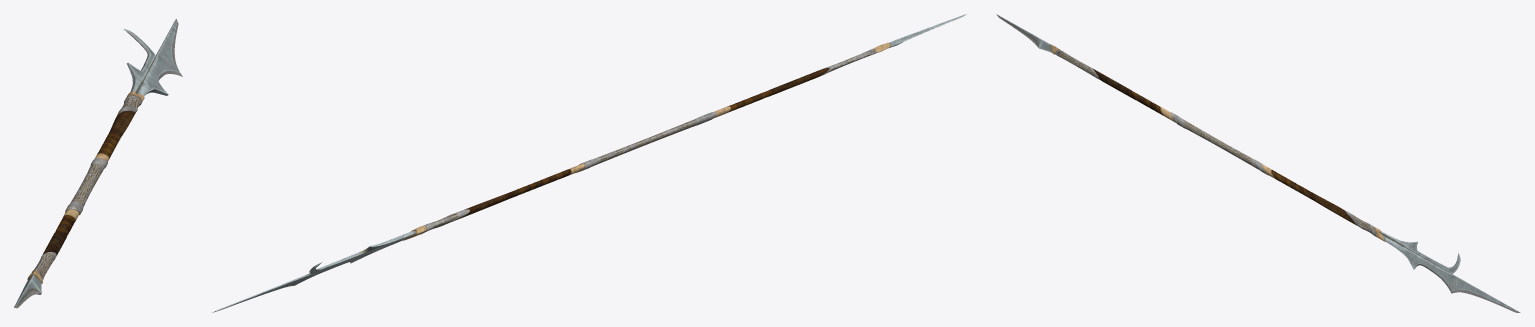
The model's file is polearm.glb.
3 renders of one model, left to right at view 1: azimuth 90°, elevation 25°; view 2: azimuth 210°, elevation 25°; view 3: azimuth 330°, elevation 25°, orthographic. The views are drawn at different scales.
Parts seen in each view (by area): view 1: g (×3); view 2: g (×2); view 3: g (×3).
Part boxes in pixels (x1,y1,x2,y2): g (×3): [14, 19, 182, 308]; g (×2): [212, 48, 877, 312]; g (×3): [996, 14, 1520, 312].
Bounding box in the file's own units: 1.94 × 0.4318 × 0.2506.
1 material, 1 textured.
